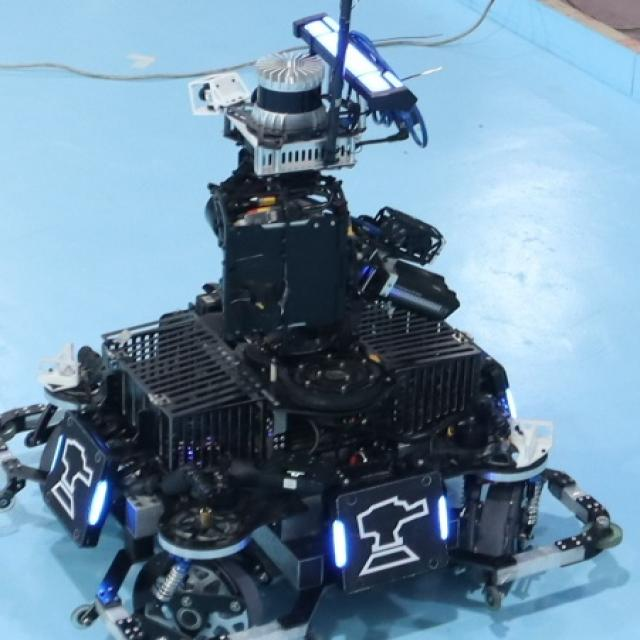Bs: (331, 487, 454, 575), (47, 429, 112, 537)
